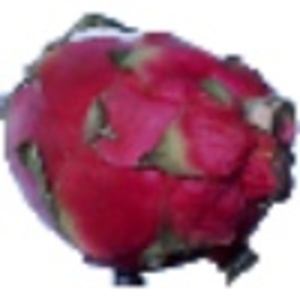pitaia: (1, 11, 300, 289)
